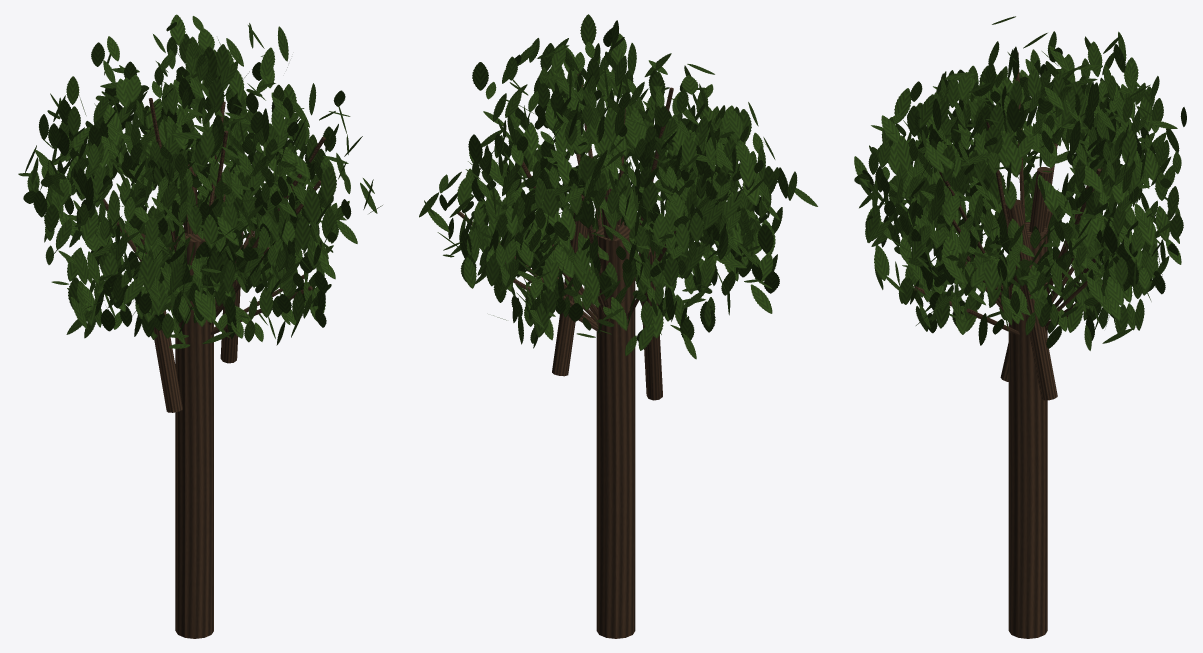
The model's file is kilmore_tree_b.glb.
The picture shows the model from 3 angles, left to right: view 1: azimuth 30°, elevation 25°; view 2: azimuth 150°, elevation 25°; view 3: azimuth 270°, elevation 25°; orthographic projection.
Visible parts, largest first — view 1: SM_Kilmore_ParkTree_B_CombinedMesh; view 2: SM_Kilmore_ParkTree_B_CombinedMesh; view 3: SM_Kilmore_ParkTree_B_CombinedMesh.
Boxes of the visible parts, <box> form: SM_Kilmore_ParkTree_B_CombinedMesh: <box>18,14,382,638</box>; SM_Kilmore_ParkTree_B_CombinedMesh: <box>419,14,817,638</box>; SM_Kilmore_ParkTree_B_CombinedMesh: <box>854,16,1186,638</box>.
Size of the model in its own units: 4.29 by 7.56 by 4.01.
2 materials, 2 textured.
